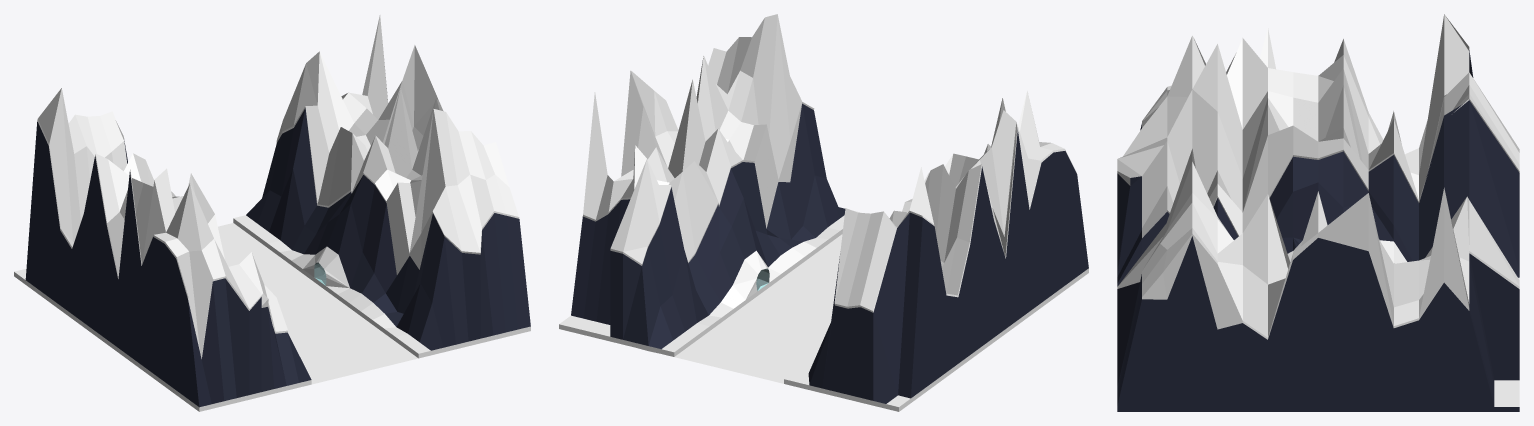
The model's file is SideMountainCaves1.fbx.
3 renders of one model, left to right at view 1: azimuth 30°, elevation 25°; view 2: azimuth 150°, elevation 25°; view 3: azimuth 270°, elevation 25°, orthographic. The views are drawn at different scales.
Parts seen in each view (by area): view 1: rock.001; view 2: rock.001; view 3: rock.001.
Boxes of the visible parts, bbox=[...] form: rock.001: bbox=[14, 15, 530, 411]; rock.001: bbox=[559, 14, 1088, 411]; rock.001: bbox=[1117, 14, 1519, 411].
Bounding box in the file's own units: 18599 × 11401 × 18004.
